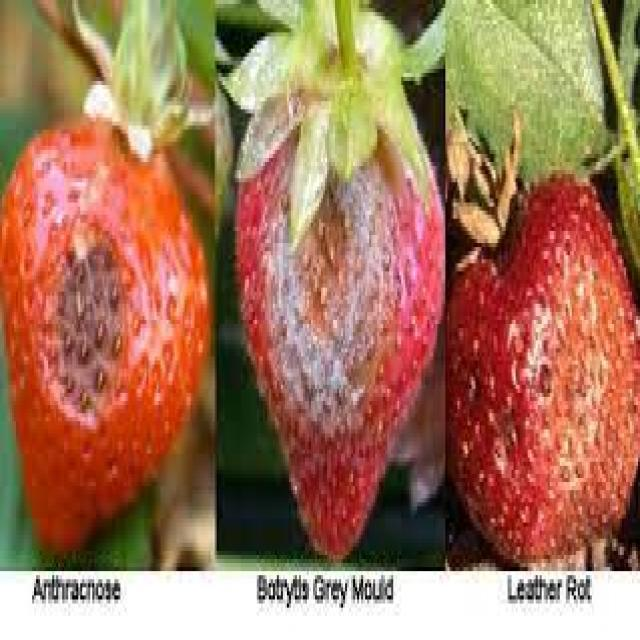Mancha negra Antracnosis: (1, 106, 202, 552)
Moho gris: (232, 78, 440, 526)
Podredumbre de cuero: (460, 146, 636, 557)
